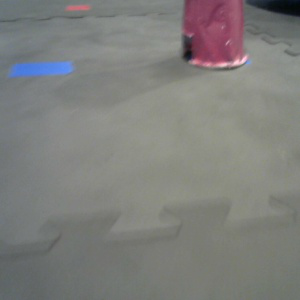Right: (181, 1, 247, 68)
